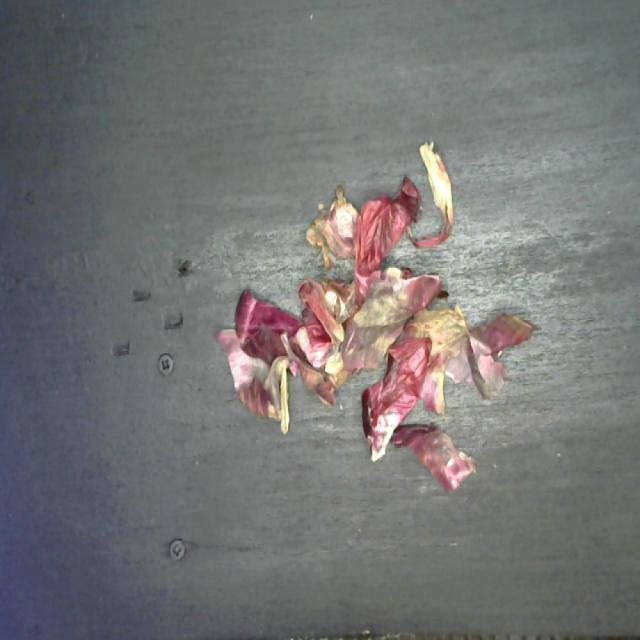biodegradable: (212, 138, 544, 499)
